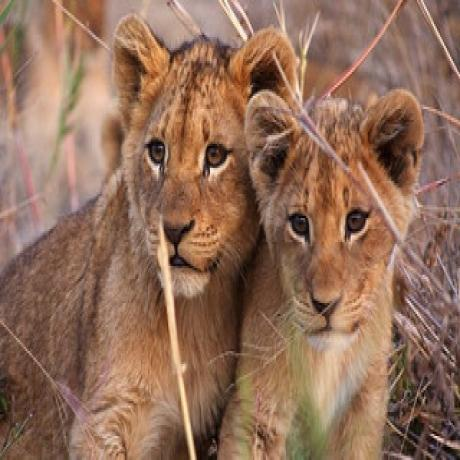Lion: (0, 16, 298, 460), (248, 89, 423, 460)
